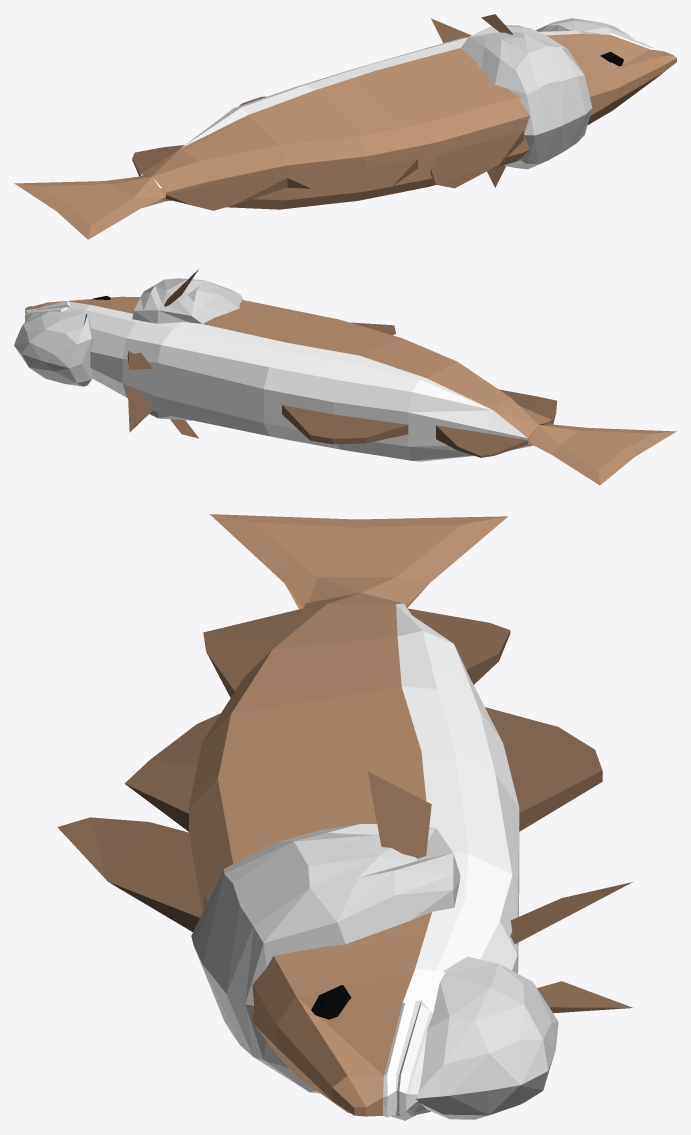
File: CodDrip.glb
The picture shows the model from 3 angles, top to bottom: view 1: azimuth 30°, elevation 25°; view 2: azimuth 150°, elevation 25°; view 3: azimuth 270°, elevation 25°; orthographic projection. The views are drawn at different scales.
Parts seen in each view (by area): view 1: CodDrip; view 2: CodDrip; view 3: CodDrip.
Boxes of the visible parts, left/top/right/bottom form: CodDrip: left=14, top=14, right=676, bottom=239; CodDrip: left=14, top=269, right=676, bottom=485; CodDrip: left=57, top=514, right=632, bottom=1120.
Size of the model in its own units: 0.7699 by 0.2046 by 0.3138.
Materials: 1 (1 with a texture image).
